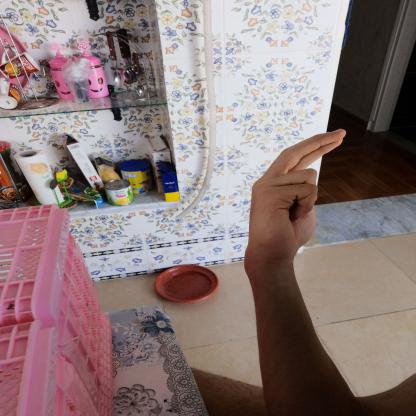ZAY: (239, 121, 357, 270)
